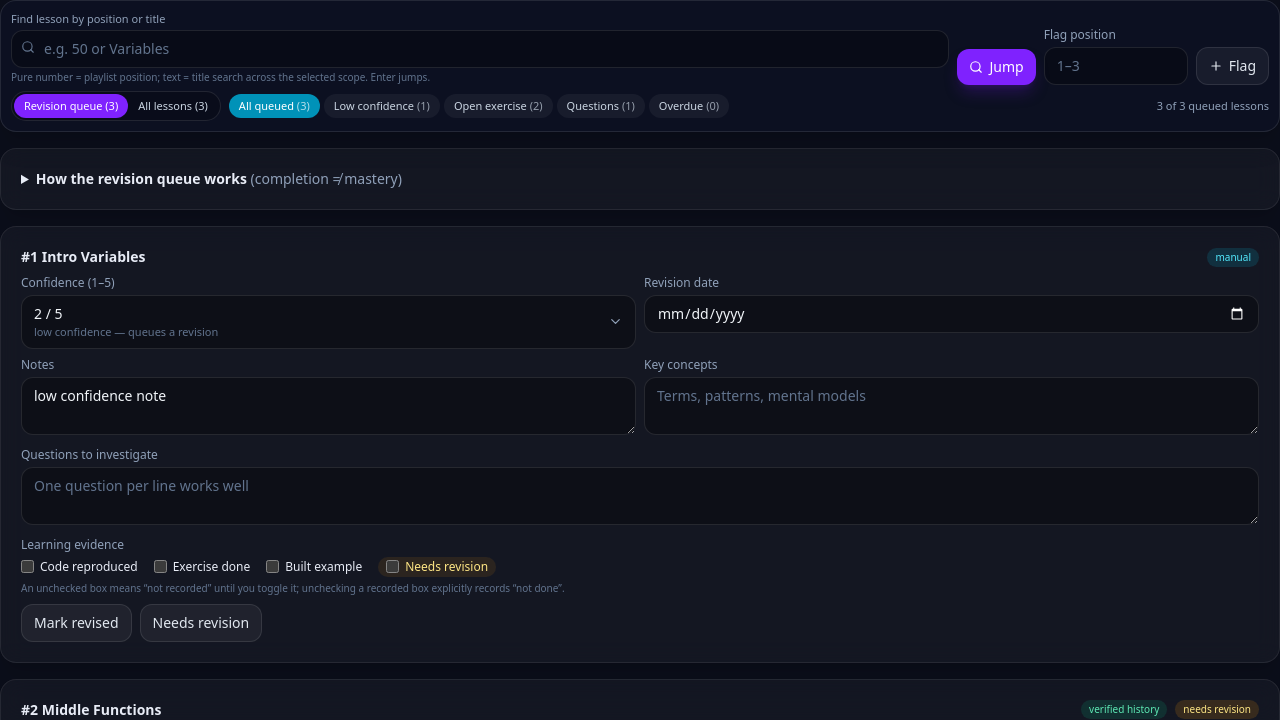
Scenario: Revision sticky toolbar, search, jump, and filters › searches by title and jumps to the matching revision card
Expected: the text "3 of 3 queued lessons" is shown, [1157,98,1269,114]
In the field labelled "Find lesson by position or title": (480, 48) [11,30,950,68], type "finale"
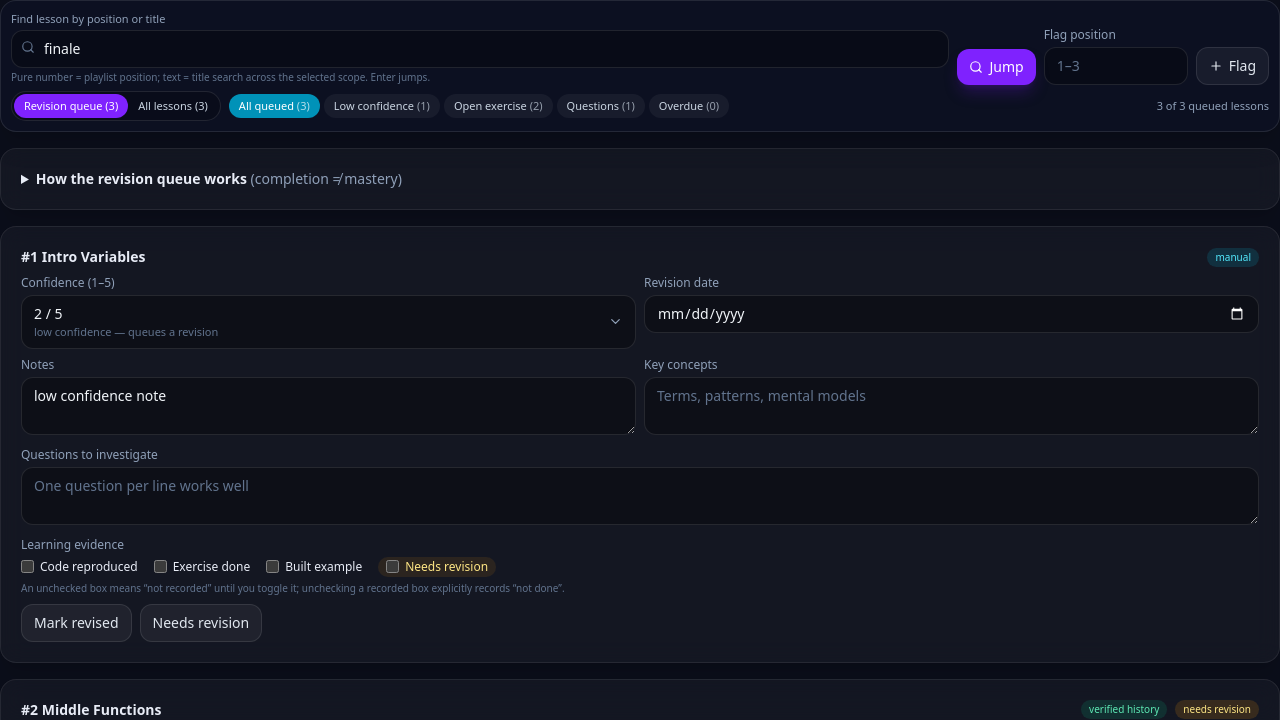
Press Enter in the field labelled "Find lesson by position or title", box [11,30,950,68]
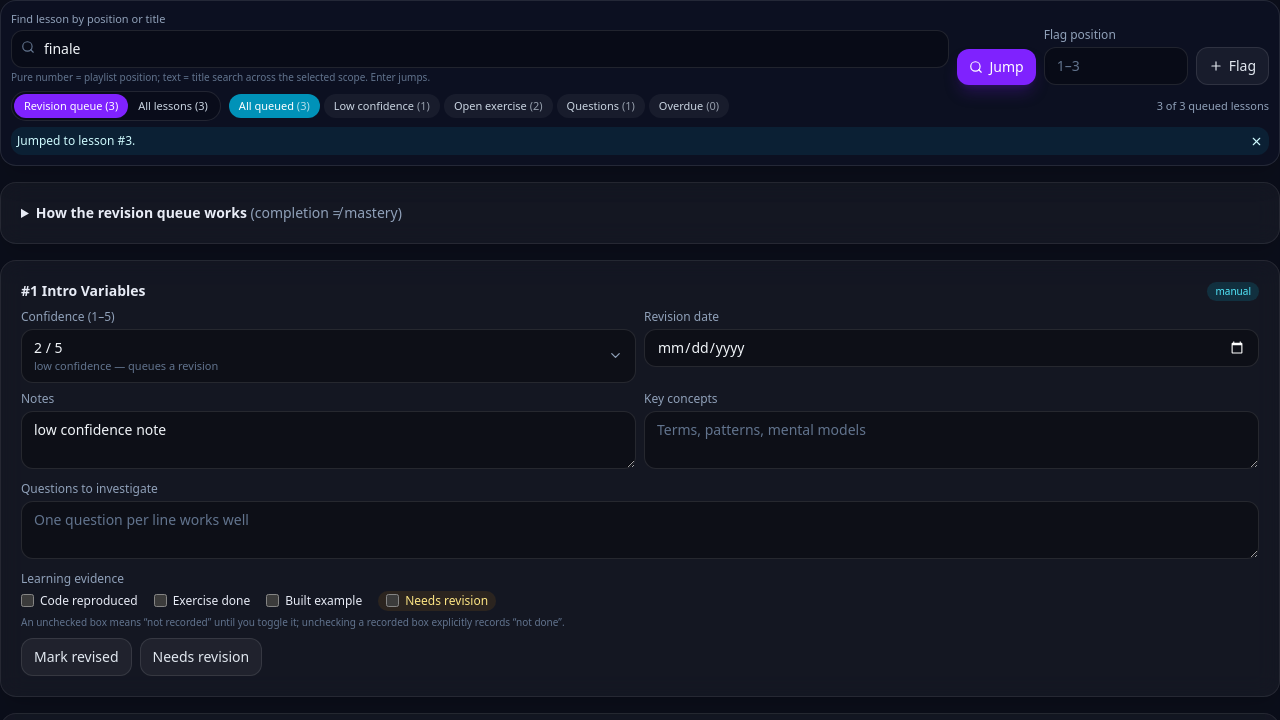
Expected: the text "Jumped to lesson #3." is shown, [17,132,135,149]
